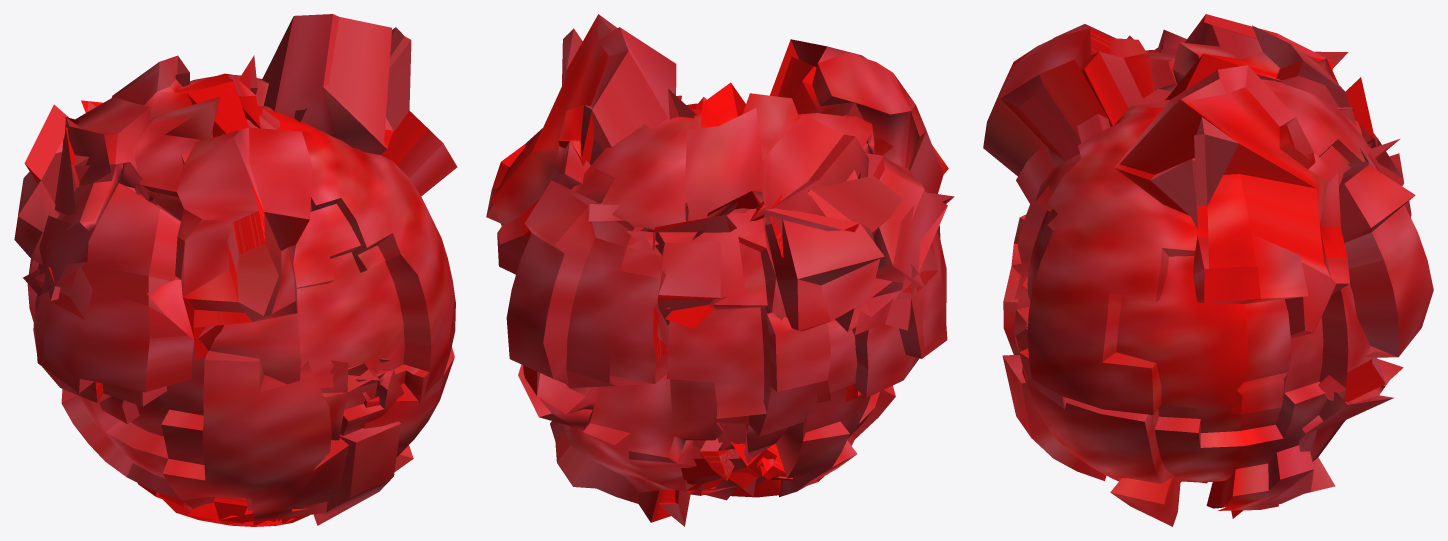
The model's file is crystal.fbx.
3 views of the same model, side by side, from view 1: azimuth 30°, elevation 25°; view 2: azimuth 150°, elevation 25°; view 3: azimuth 270°, elevation 25° (orthographic). The views are drawn at different scales.
Parts seen in each view (by area): view 1: pasted__pasted__pSphere1; view 2: pasted__pasted__pSphere1; view 3: pasted__pasted__pSphere1.
Boxes of the visible parts, <box> form: pasted__pasted__pSphere1: <box>14,14,457,526</box>; pasted__pasted__pSphere1: <box>486,14,954,526</box>; pasted__pasted__pSphere1: <box>983,14,1433,526</box>.
Bounding box in the file's own units: 2.78 × 3.08 × 2.6.
